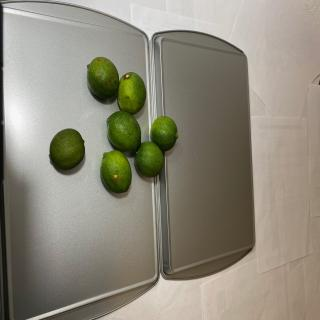Lemon: (106, 111, 142, 153), (49, 128, 85, 170), (86, 56, 119, 99), (100, 150, 132, 193), (118, 72, 146, 115), (134, 141, 164, 178), (150, 115, 178, 152)
